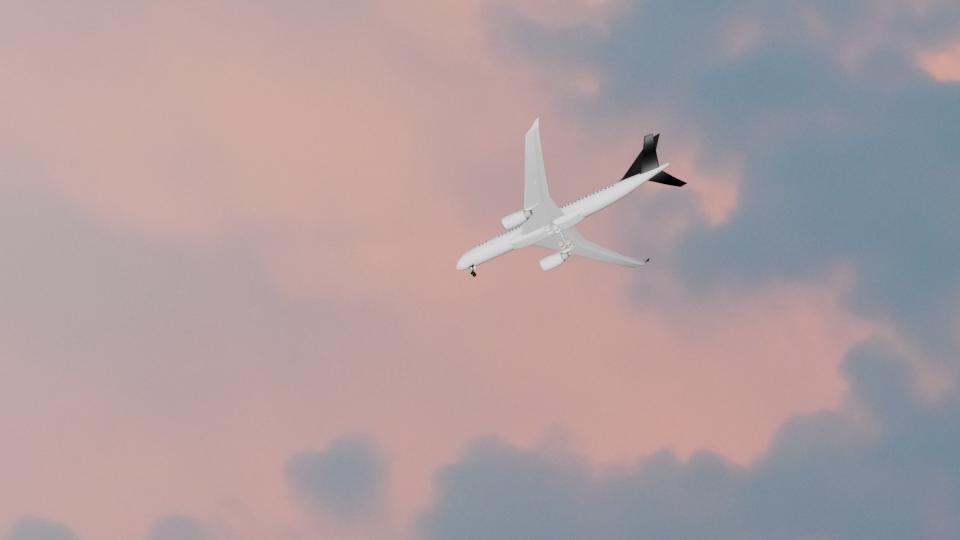plane: (453, 116, 689, 280)
